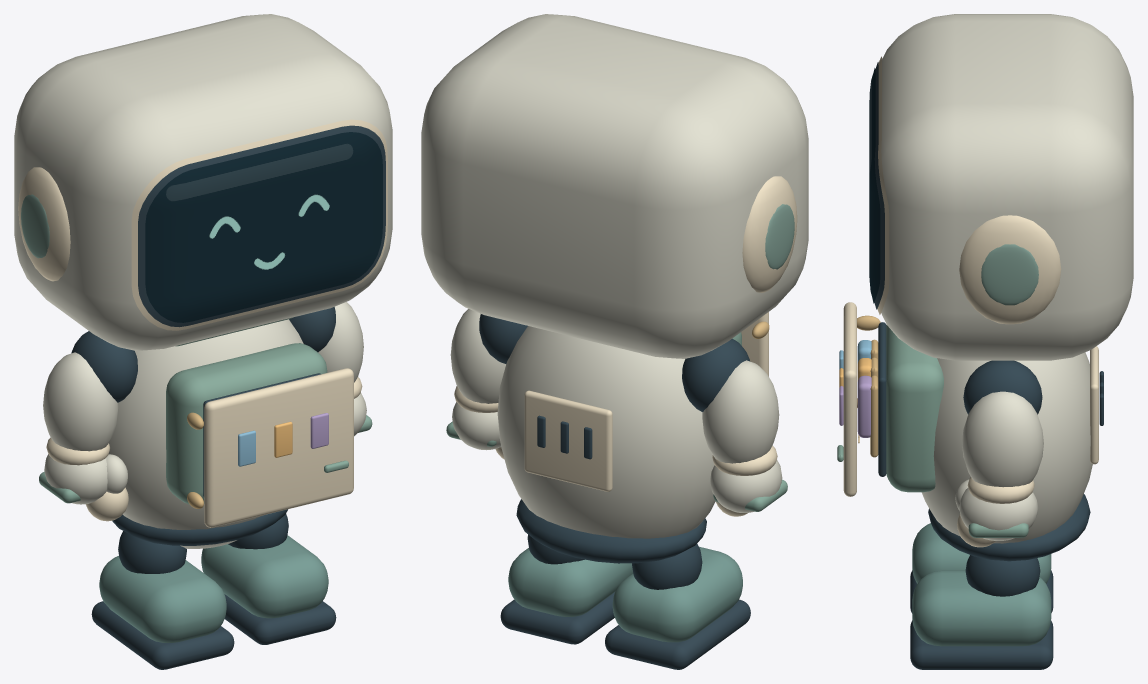
Rendered from player.glb.
3 views of the same model, side by side, from view 1: azimuth 30°, elevation 25°; view 2: azimuth 150°, elevation 25°; view 3: azimuth 270°, elevation 25° (orthographic). The views are drawn at different scales.
Visible parts, largest first — view 1: Head shell, FaceScreen, Memory hatch cover, Torso, Memory housing, Boot upper.L, Boot upper.R, Sleeve.L, Face gasket, Face rim, Boot sole.L, Side earpiece (+15 smaller); view 2: Head shell, Torso, Boot upper.L, Back service panel, Sleeve.L, Boot upper.R, Lower body seam, Boot sole.L, Side earpiece, Sleeve.R, Boot sole.R, Shoulder socket.L (+8 smaller); view 3: Head shell, Torso, Boot upper.R, Memory housing, Sleeve.R, Side earpiece.001, Boot sole.R, Lower body seam, Earpiece inset.001, Memory hatch cover, Shoulder socket.R, Ankle.R (+11 smaller).
Part boxes in pixels (bbox=[...]): Head shell: bbox=[14, 14, 392, 350]; FaceScreen: bbox=[145, 132, 382, 322]; Memory hatch cover: bbox=[204, 368, 353, 527]; Torso: bbox=[108, 319, 303, 548]; Memory housing: bbox=[166, 343, 327, 504]; Boot upper.L: bbox=[99, 556, 226, 642]; Boot upper.R: bbox=[201, 535, 328, 618]; Sleeve.L: bbox=[43, 352, 118, 451]; Face gasket: bbox=[138, 125, 385, 327]; Face rim: bbox=[131, 119, 387, 330]; Boot sole.L: bbox=[91, 601, 234, 669]; Side earpiece: bbox=[18, 167, 70, 281]; Head shell: bbox=[421, 14, 808, 358]; Torso: bbox=[497, 326, 715, 538]; Boot upper.L: bbox=[612, 546, 742, 642]; Back service panel: bbox=[524, 390, 612, 491]; Sleeve.L: bbox=[702, 360, 779, 463]; Boot upper.R: bbox=[508, 548, 632, 616]; Lower body seam: bbox=[516, 499, 706, 563]; Boot sole.L: bbox=[605, 599, 750, 669]; Side earpiece: bbox=[742, 176, 797, 292]; Sleeve.R: bbox=[450, 309, 505, 403]; Boot sole.R: bbox=[500, 592, 614, 644]; Shoulder socket.L: bbox=[682, 338, 750, 411]; Head shell: bbox=[881, 14, 1133, 360]; Torso: bbox=[921, 352, 1092, 543]; Boot upper.R: bbox=[912, 570, 1051, 646]; Memory housing: bbox=[886, 325, 943, 492]; Sleeve.R: bbox=[962, 391, 1043, 487]; Side earpiece.001: bbox=[959, 215, 1061, 324]; Boot sole.R: bbox=[910, 620, 1053, 669]; Lower body seam: bbox=[928, 494, 1090, 561]; Earpiece inset.001: bbox=[981, 244, 1038, 305]; Memory hatch cover: bbox=[843, 302, 856, 496]; Shoulder socket.R: bbox=[963, 360, 1042, 414]; Ankle.R: bbox=[965, 555, 1040, 596].
Bounding box in the file's own units: 1.11 × 1.77 × 0.839.
12 materials, 1 textured.
